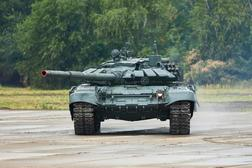t72: (40, 50, 193, 137)
